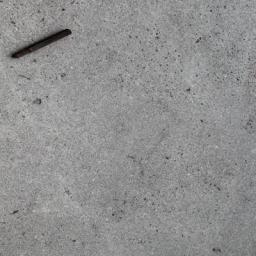FOD: (9, 26, 75, 62)
